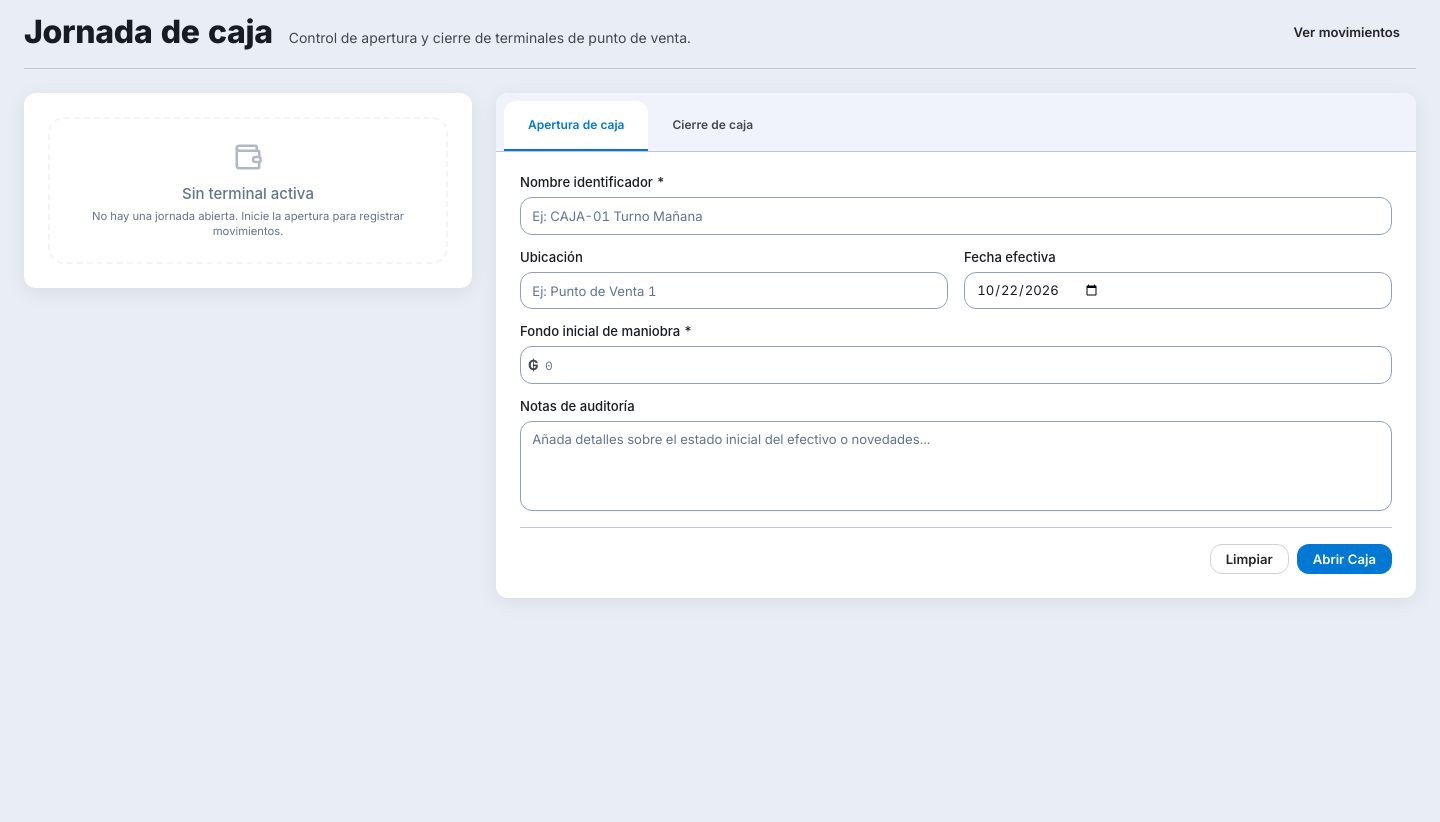
Test: NewCashRegister Page › should switch to the close panel and show the no-terminal empty state
Click the tab "Cierre de caja". click: point(713, 126)
box: [648, 101, 777, 151]
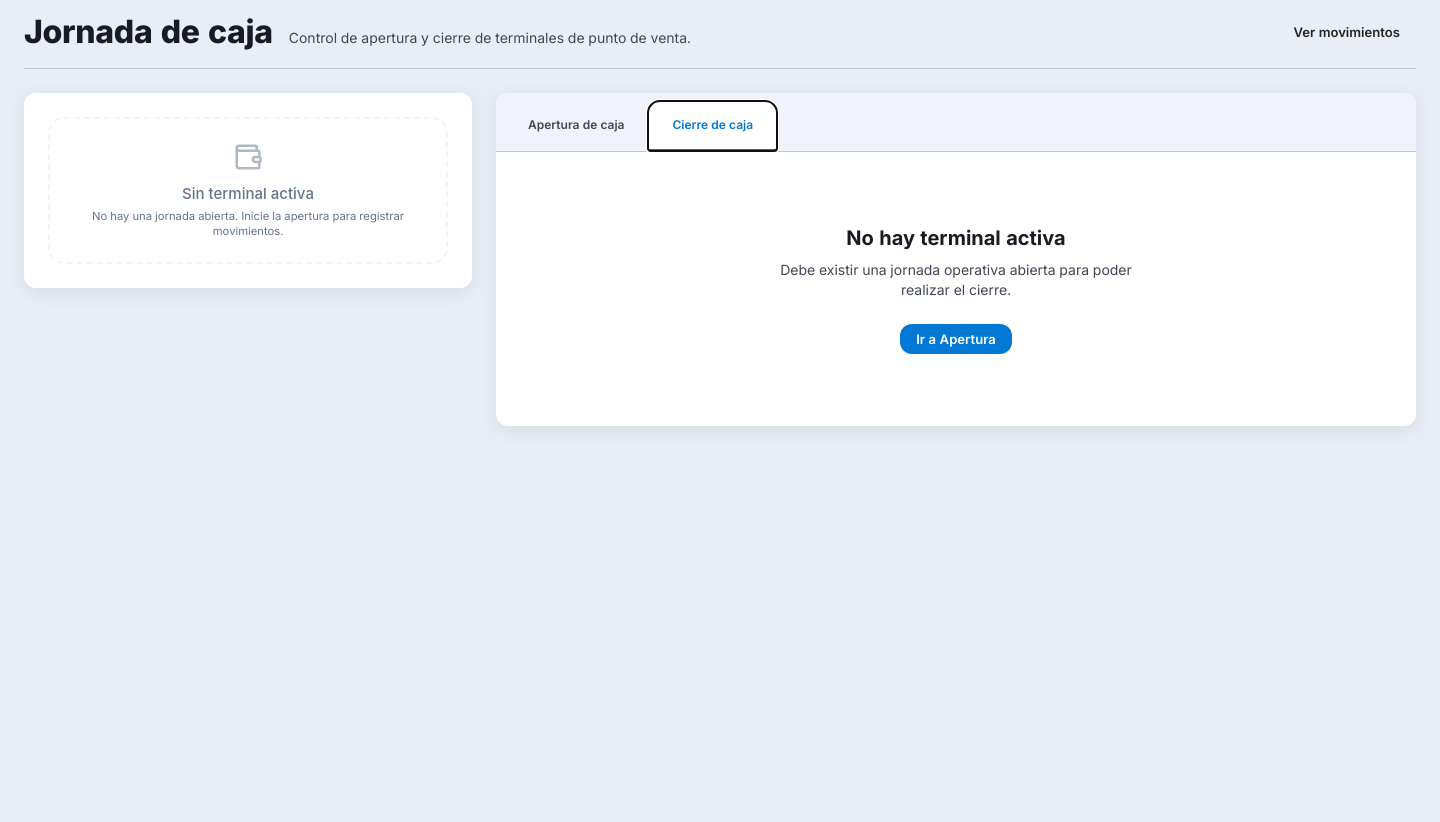
Check: the heading "No hay terminal activa" is shown, box [846, 224, 1066, 252]
Check: the button "Ir a Apertura" is shown, box [900, 324, 1012, 354]
